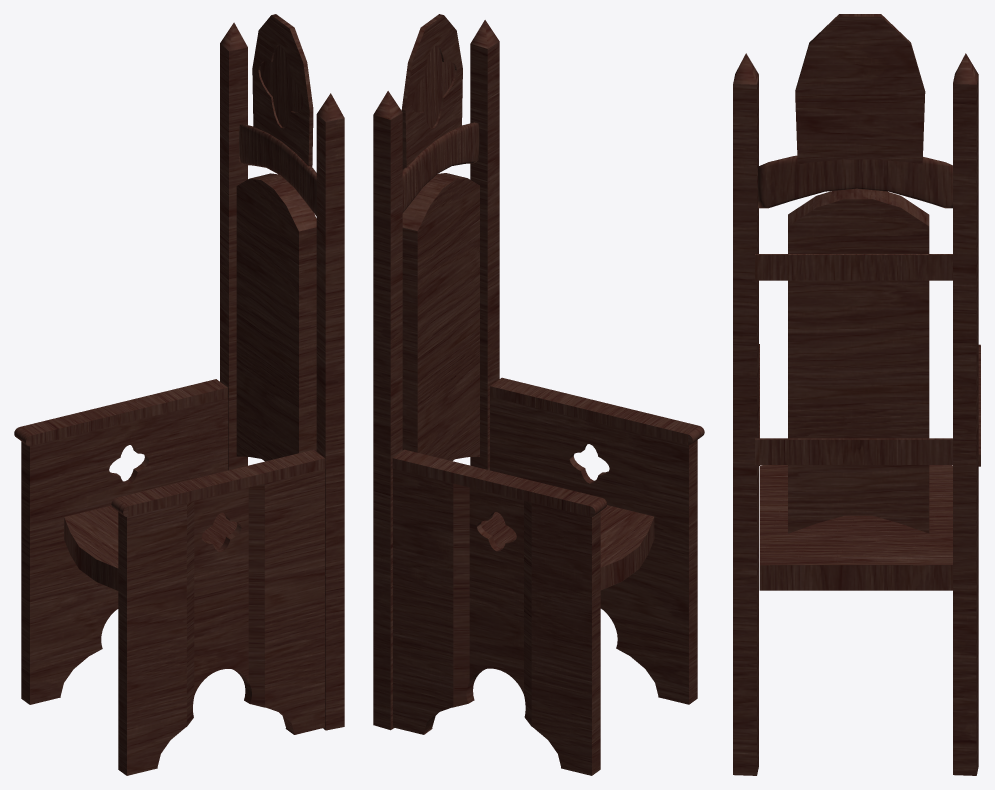
Rendered from chair 2.fbx.
3 views of the same model, side by side, from view 1: azimuth 30°, elevation 25°; view 2: azimuth 150°, elevation 25°; view 3: azimuth 270°, elevation 25° (orthographic). The views are drawn at different scales.
Parts seen in each view (by area): view 1: pCube66; view 2: pCube66; view 3: pCube66.
Boxes of the visible parts, box(x1,y1,x2,y2) form: pCube66: box(14, 14, 344, 775); pCube66: box(373, 14, 704, 775); pCube66: box(733, 14, 980, 775).
Size of the model in its own units: 1.05 by 2.95 by 0.877.
Materials: 1 (1 with a texture image).
